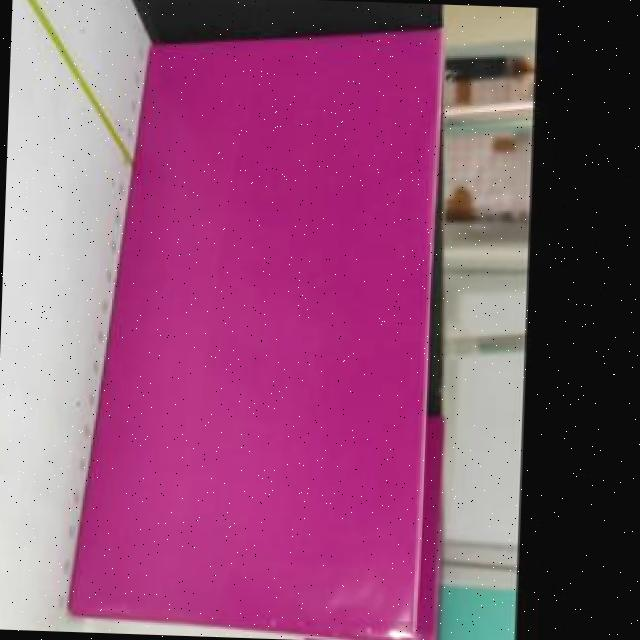xparking: (68, 35, 440, 632)
